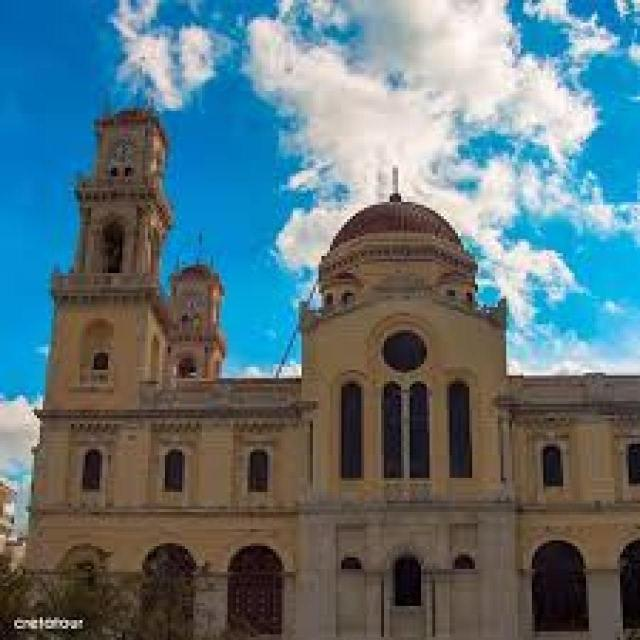Agios Minas: (18, 66, 640, 640)
